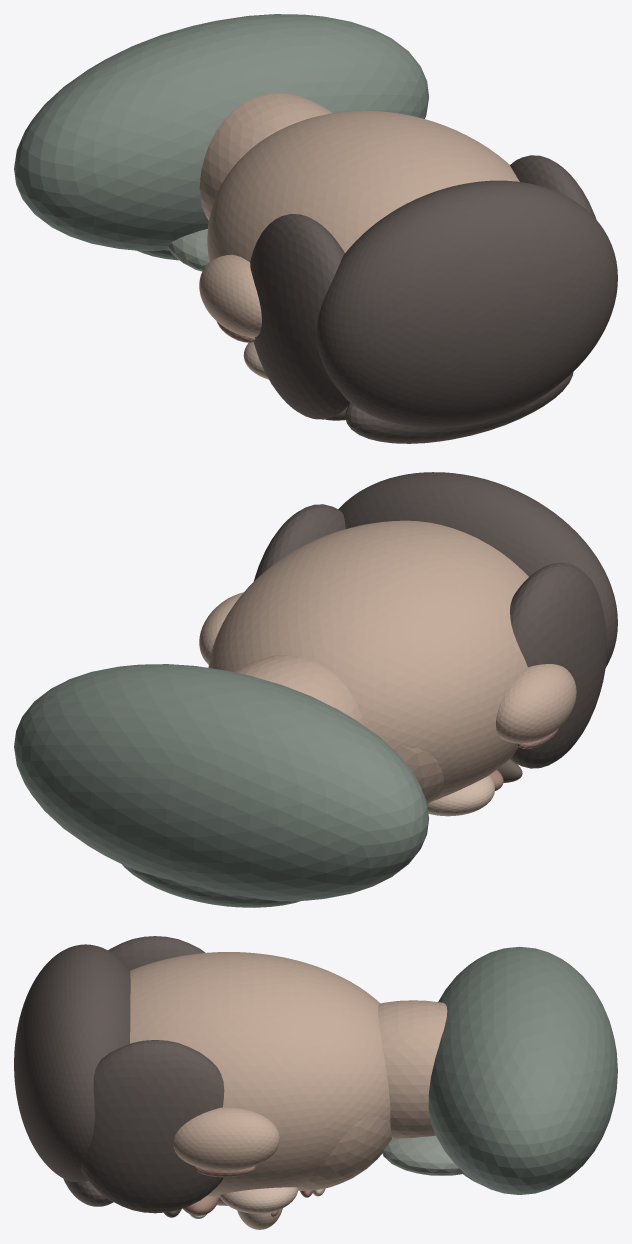
Rendered from mao_zedong_3d_bust.glb.
3 renders of one model, top to bottom at view 1: azimuth 30°, elevation 25°; view 2: azimuth 150°, elevation 25°; view 3: azimuth 270°, elevation 25°, orthographic. The views are drawn at different scales.
Parts seen in each view (by area): view 1: hair_cap, jacket_shoulders, face_head, left_hair_side, neck, left_ear, hair_front_sweep, right_hair_side, left_collar; view 2: jacket_shoulders, face_head, hair_cap, left_hair_side, left_ear, neck, right_hair_side, jacket_front, left_cheek, lower_face, right_ear; view 3: face_head, jacket_shoulders, hair_cap, right_hair_side, neck, right_ear, lower_face, right_collar, left_hair_side, right_cheek, hair_front_sweep, nose_tip (+1 smaller).
Boxes of the visible parts, bbox=[...] form: hair_cap: bbox=[316, 180, 617, 427]; jacket_shoulders: bbox=[14, 14, 428, 250]; face_head: bbox=[207, 110, 519, 262]; left_hair_side: bbox=[250, 214, 349, 419]; neck: bbox=[199, 93, 332, 220]; left_ear: bbox=[199, 254, 261, 336]; hair_front_sweep: bbox=[345, 372, 573, 443]; right_hair_side: bbox=[510, 155, 596, 219]; left_collar: bbox=[167, 228, 209, 271]; jacket_shoulders: bbox=[14, 664, 429, 901]; face_head: bbox=[208, 520, 528, 801]; hair_cap: bbox=[338, 472, 617, 667]; left_hair_side: bbox=[510, 563, 606, 768]; left_ear: bbox=[496, 664, 576, 743]; neck: bbox=[235, 655, 364, 726]; right_hair_side: bbox=[253, 504, 345, 581]; jacket_front: bbox=[122, 864, 300, 907]; left_cheek: bbox=[427, 775, 494, 816]; lower_face: bbox=[396, 745, 443, 804]; right_ear: bbox=[199, 592, 243, 664]; face_head: bbox=[130, 952, 390, 1197]; jacket_shoulders: bbox=[428, 946, 617, 1194]; hair_cap: bbox=[14, 944, 130, 1181]; right_hair_side: bbox=[81, 1040, 224, 1213]; neck: bbox=[378, 1000, 447, 1138]; right_ear: bbox=[173, 1107, 279, 1170]; lower_face: bbox=[298, 1114, 391, 1190]; right_collar: bbox=[382, 1135, 464, 1175]; left_hair_side: bbox=[108, 936, 205, 970]; right_cheek: bbox=[219, 1187, 298, 1213]; hair_front_sweep: bbox=[63, 1178, 113, 1206]; nose_tip: bbox=[237, 1208, 282, 1229].
Bounding box in the file's own units: 2 × 1.42 × 2.95.
